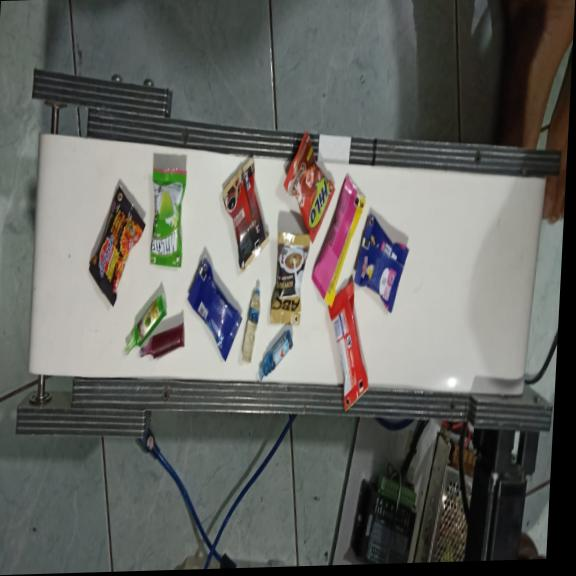Plastik: (309, 172, 366, 307), (86, 183, 147, 308), (216, 154, 273, 273), (322, 280, 373, 412), (279, 127, 337, 243), (182, 256, 245, 362), (351, 210, 410, 313), (146, 164, 186, 269), (269, 229, 310, 326), (124, 293, 167, 356), (138, 321, 185, 360), (258, 329, 292, 381), (241, 288, 261, 363)
